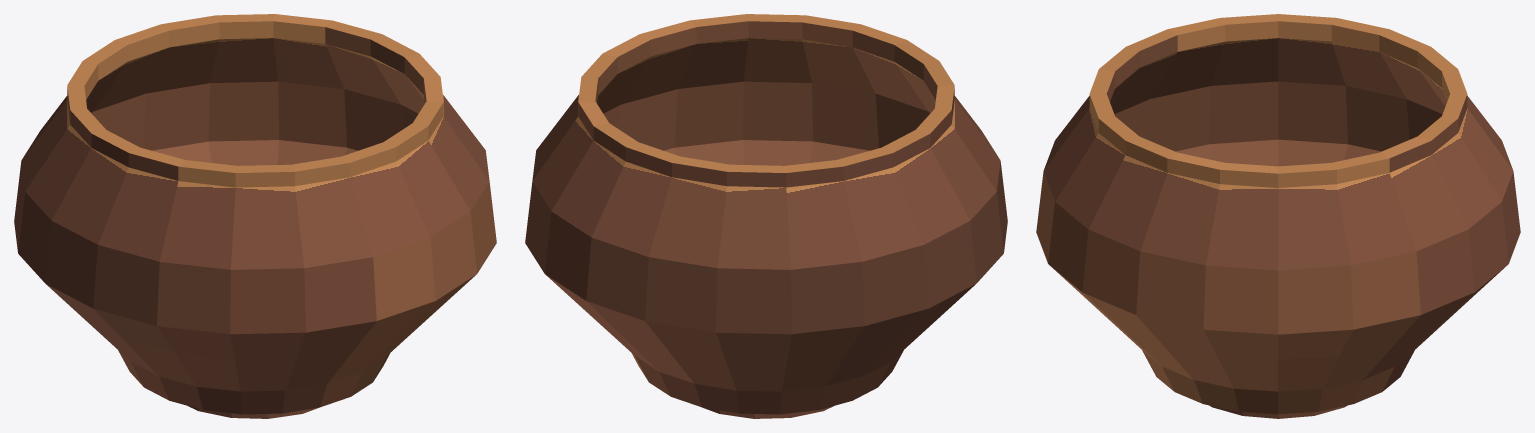
Rendered from vessel-bizen.glb.
The picture shows the model from 3 angles, left to right: view 1: azimuth 30°, elevation 25°; view 2: azimuth 150°, elevation 25°; view 3: azimuth 270°, elevation 25°; orthographic projection.
Visible parts, largest first — view 1: vessel-bizen/complete-inner-outer-shell-with-drainage, vessel-bizen/complete-open-foot-ring; view 2: vessel-bizen/complete-inner-outer-shell-with-drainage, vessel-bizen/complete-open-foot-ring; view 3: vessel-bizen/complete-inner-outer-shell-with-drainage, vessel-bizen/complete-open-foot-ring.
Part boxes in pixels (box(x1,y1,x2,y2)): vessel-bizen/complete-inner-outer-shell-with-drainage: box(14, 14, 496, 414); vessel-bizen/complete-open-foot-ring: box(188, 406, 318, 418); vessel-bizen/complete-inner-outer-shell-with-drainage: box(525, 14, 1007, 414); vessel-bizen/complete-open-foot-ring: box(703, 406, 833, 418); vessel-bizen/complete-inner-outer-shell-with-drainage: box(1036, 14, 1520, 414); vessel-bizen/complete-open-foot-ring: box(1209, 405, 1347, 418).
Bounding box in the file's own units: 0.366 × 0.238 × 0.366.
1 material, 1 textured.
